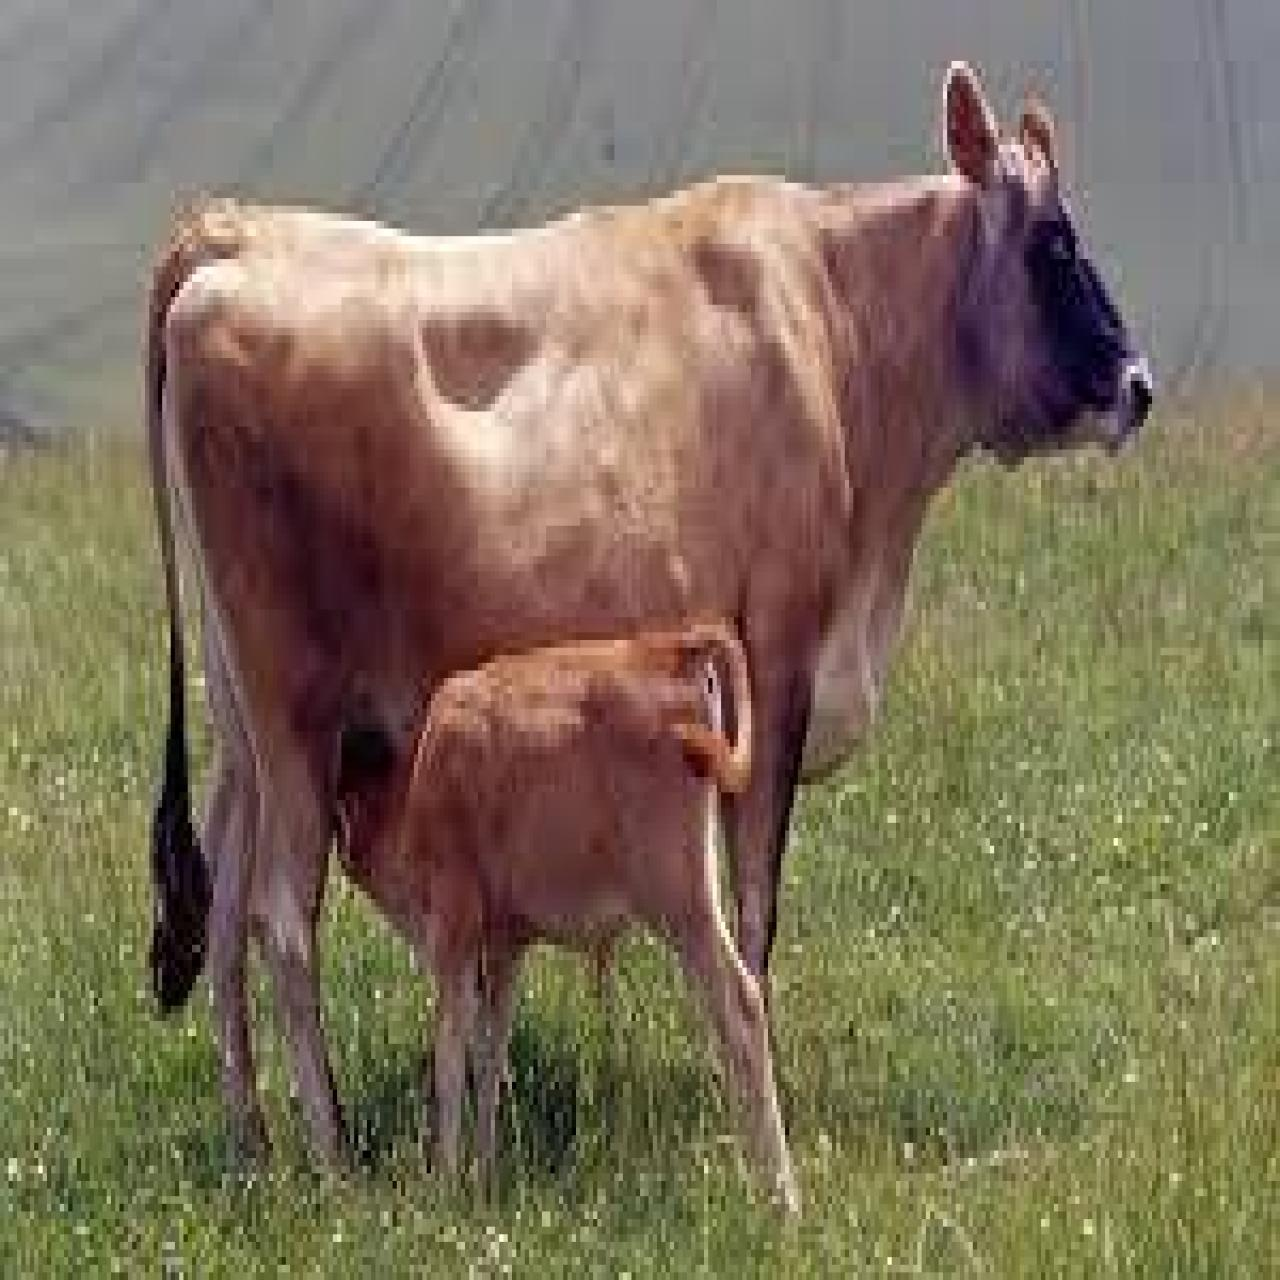cow: (145, 61, 1152, 1196), (331, 621, 801, 1216)
